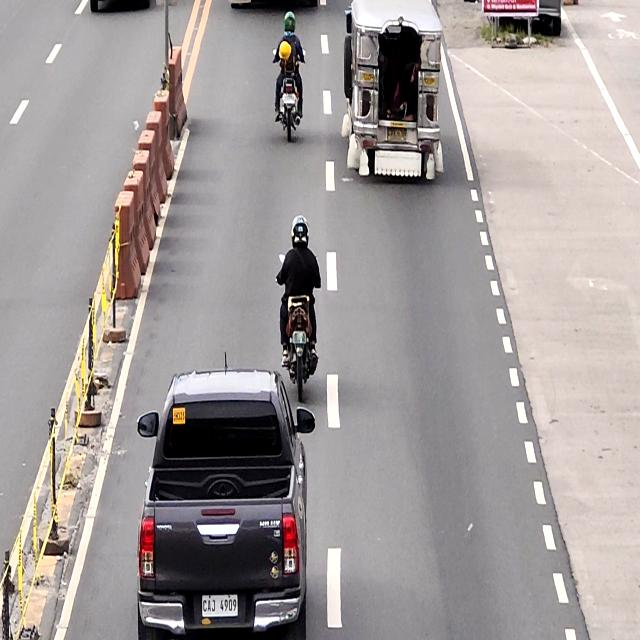Car: (133, 368, 316, 640)
Jeep: (340, 0, 446, 187)
License-Plate: (202, 595, 238, 616), (386, 126, 407, 144), (291, 331, 306, 345), (282, 93, 296, 105)
Motorcycle: (280, 246, 318, 405), (272, 45, 305, 144)
